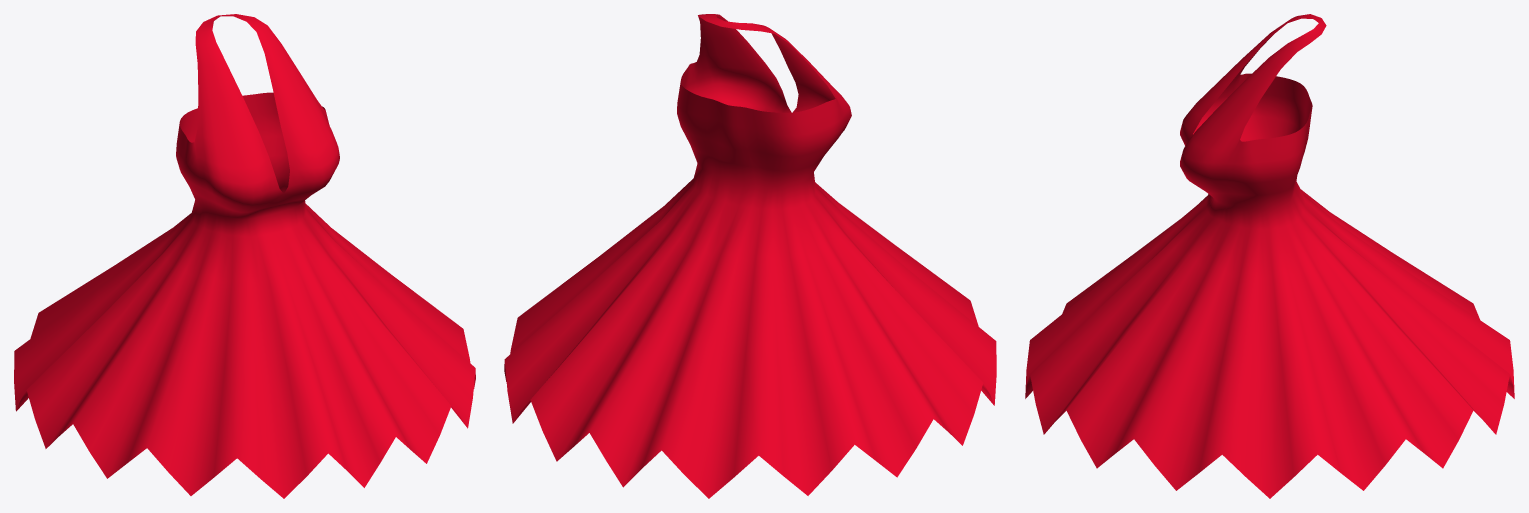
Rendered from obojena haljina (1).fbx.
3 views of the same model, side by side, from view 1: azimuth 30°, elevation 25°; view 2: azimuth 150°, elevation 25°; view 3: azimuth 270°, elevation 25° (orthographic). The views are drawn at different scales.
Parts seen in each view (by area): view 1: Cylinder; view 2: Cylinder; view 3: Cylinder.
Part boxes in pixels (bbox=[...]): Cylinder: bbox=[14, 14, 475, 498]; Cylinder: bbox=[504, 14, 996, 498]; Cylinder: bbox=[1025, 14, 1514, 498].
Size of the model in its own units: 154 by 136 by 160.
